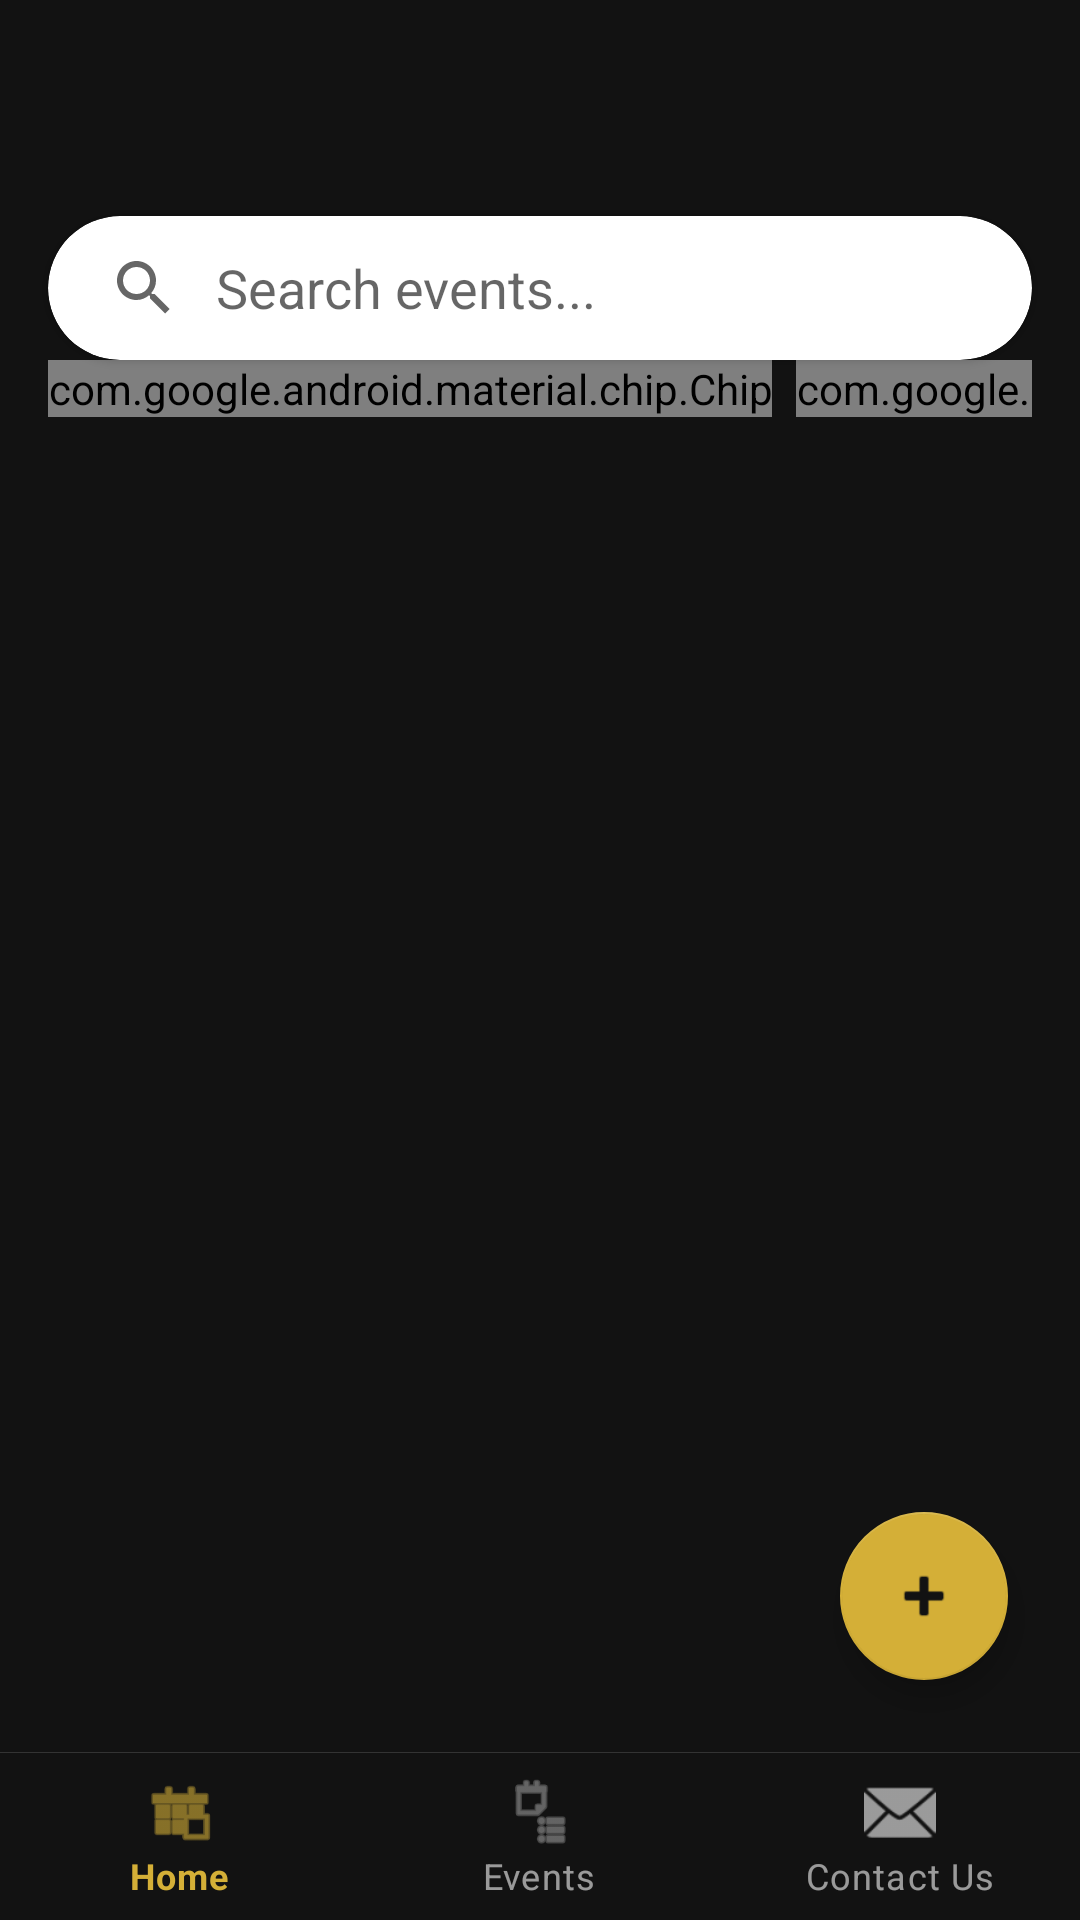

Named icons in this screenshot (1080px x 1920px) and their bounding boxes, [left=x1, top=y1, right=x2, bottom=y2]:
add: [left=840, top=1512, right=1008, bottom=1680]
